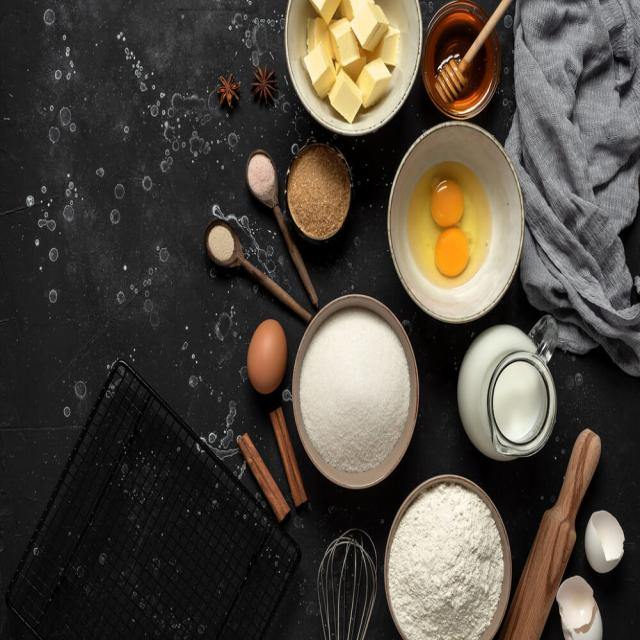Milk carton/jug: (457, 323, 548, 461)
Sugar: (298, 306, 413, 476)
